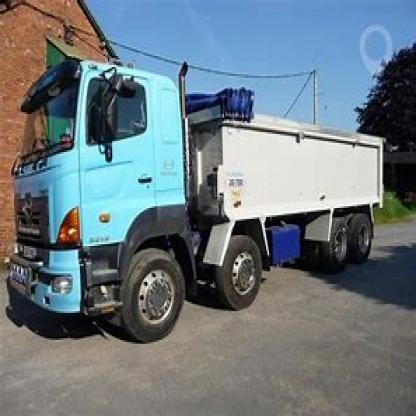dump_truck: (8, 51, 388, 340)
